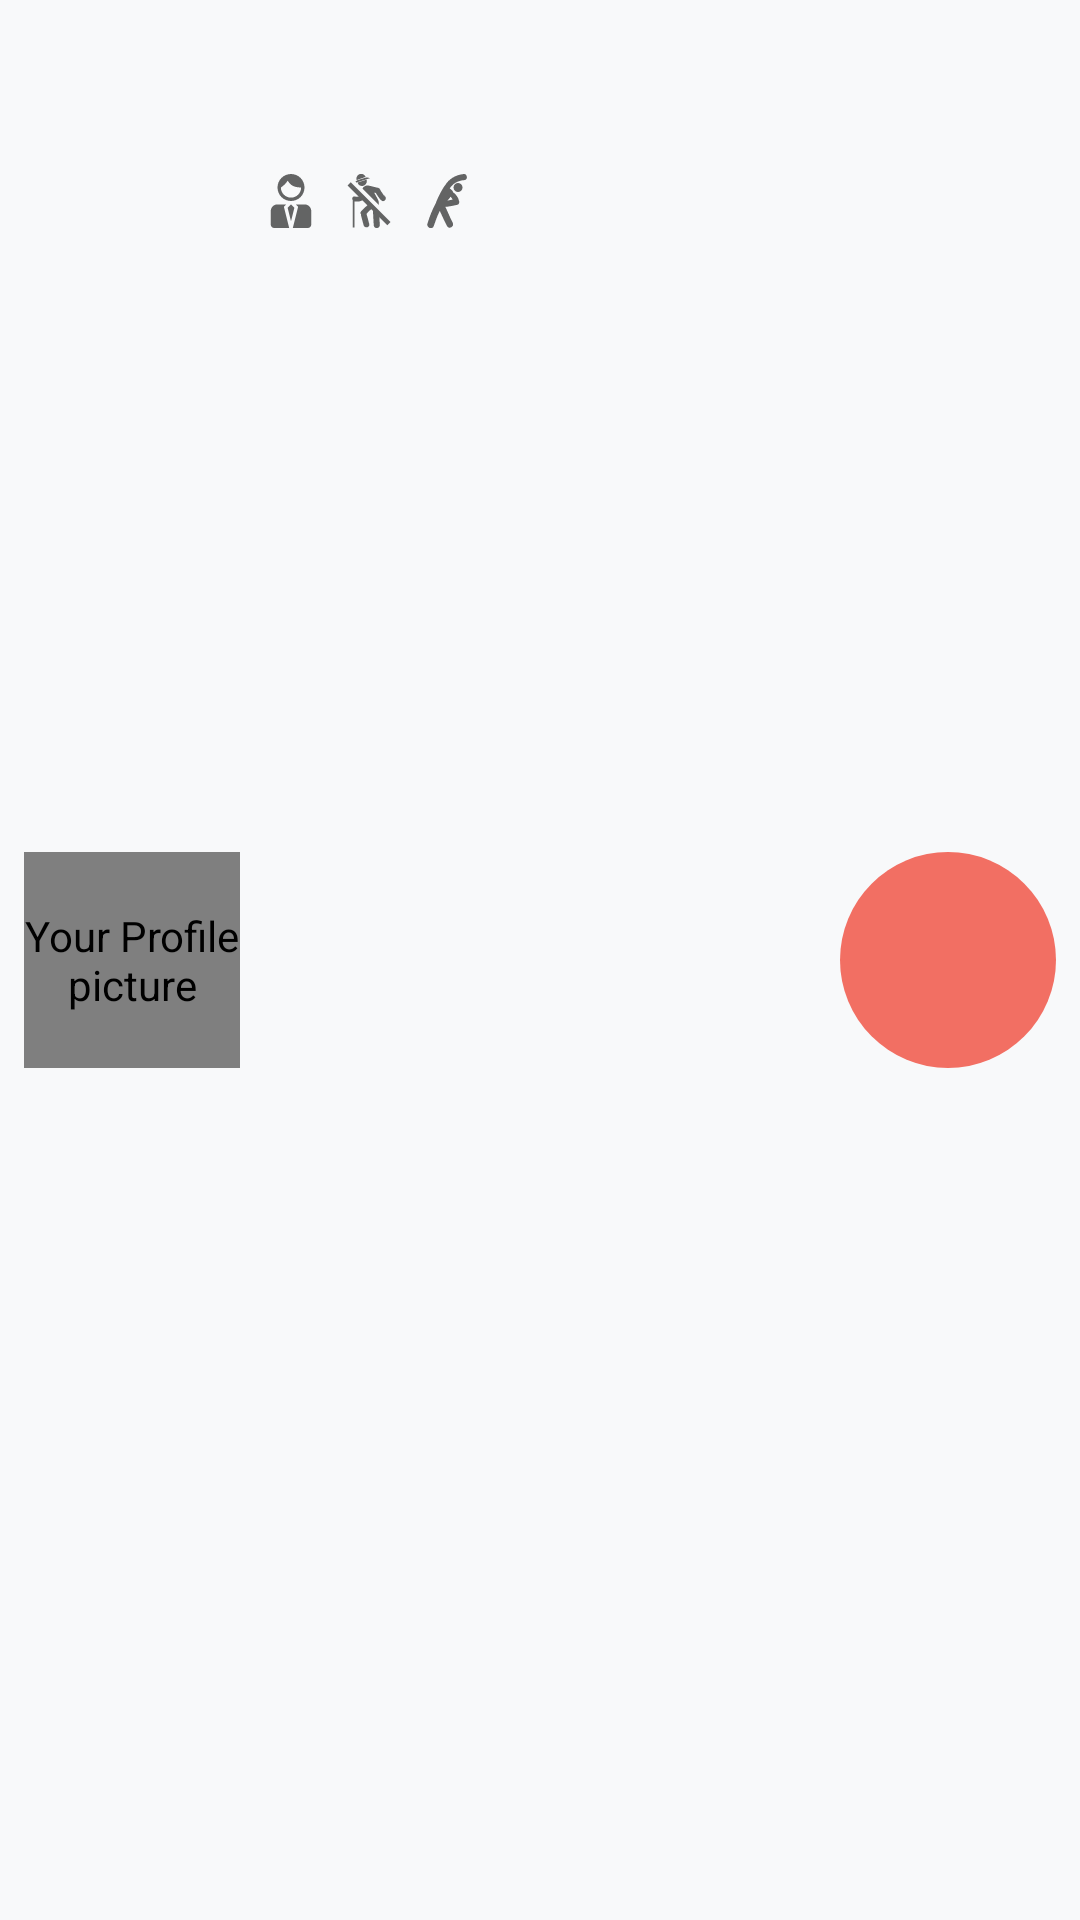

Screen size 1080px x 1920px. Icon name, then its box in pixels as [x1,y1,x2,y2]:
business man: [270,174,312,228]
fit person stretching exercises: [427,174,467,228]
